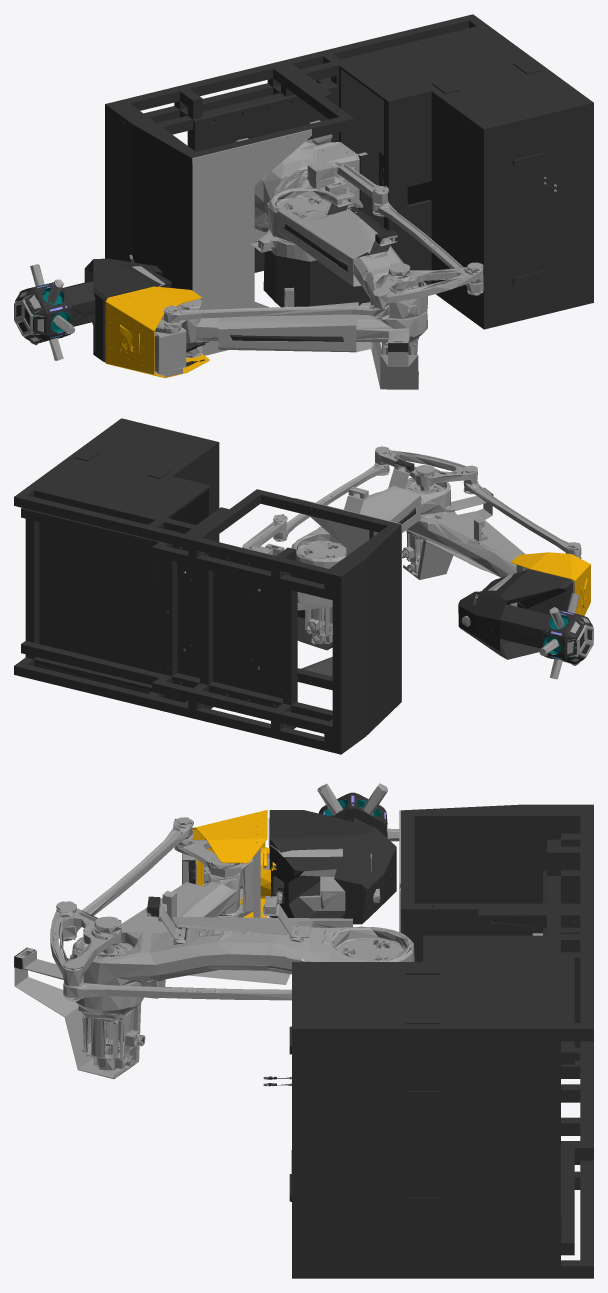
Rendered from resource-zone.glb.
3 renders of one model, top to bottom at view 1: azimuth 30°, elevation 25°; view 2: azimuth 150°, elevation 25°; view 3: azimuth 270°, elevation 25°, orthographic. The views are drawn at different scales.
Visible parts, largest first — view 1: source_13267847_7000001_1_1, source_13267846_7000001_1_ASM, source_13267862_7000001_1_16, source_13267852_7000001_1_6, source_13267861_7000001_1_15, source_13267860_7000001_1_14, source_13267858_7000001_1_12; view 2: source_13267847_7000001_1_1, source_13267846_7000001_1_ASM, source_13267862_7000001_1_16, source_13267852_7000001_1_6, source_13267861_7000001_1_15; view 3: source_13267847_7000001_1_1, source_13267846_7000001_1_ASM, source_13267862_7000001_1_16, source_13267852_7000001_1_6.
Part boxes in pixels (x1,y1,x2,y2): source_13267847_7000001_1_1: (105,14,593,329); source_13267846_7000001_1_ASM: (14,120,556,389); source_13267862_7000001_1_16: (15,258,171,362); source_13267852_7000001_1_6: (105,286,209,378); source_13267861_7000001_1_15: (263,246,398,307); source_13267860_7000001_1_14: (358,151,386,210); source_13267858_7000001_1_12: (230,335,343,341); source_13267847_7000001_1_1: (14,418,401,754); source_13267846_7000001_1_ASM: (183,446,593,701); source_13267862_7000001_1_16: (458,569,593,679); source_13267852_7000001_1_6: (511,552,590,615); source_13267861_7000001_1_15: (297,608,332,650); source_13267847_7000001_1_1: (263,804,593,1278); source_13267846_7000001_1_ASM: (14,799,542,1086); source_13267862_7000001_1_16: (260,783,399,924); source_13267852_7000001_1_6: (192,810,267,917).
Bounding box in the file's own units: 2.29 × 0.81 × 1.68.
